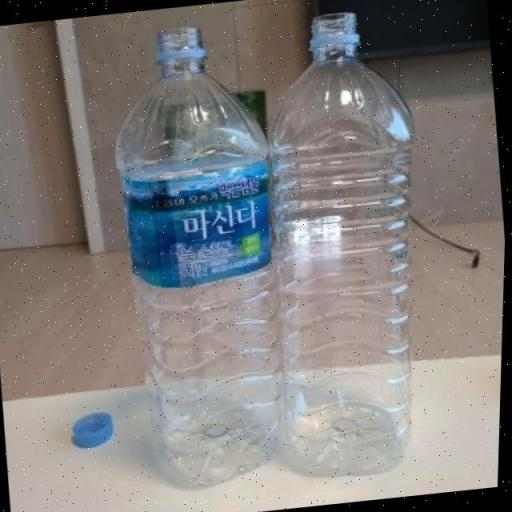plastic: (94, 20, 307, 492), (248, 5, 450, 485)
